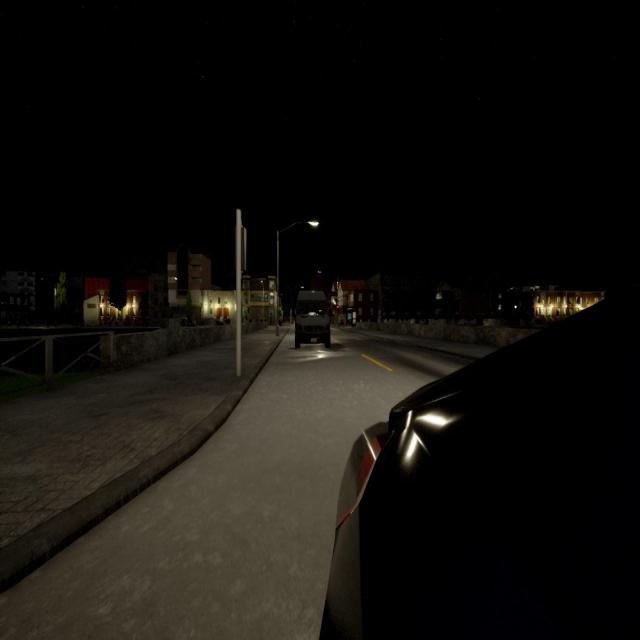Vehicle: (321, 289, 640, 639), (295, 292, 331, 348)
traffic_light: (233, 226, 247, 272), (336, 305, 339, 313)
